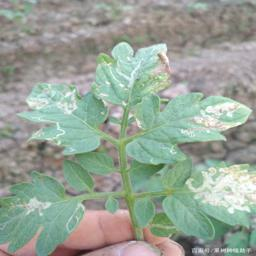liriomyza: (184, 160, 256, 215), (180, 101, 253, 138), (109, 56, 142, 91), (8, 194, 52, 216), (34, 116, 65, 142), (27, 84, 55, 110), (64, 201, 86, 233), (57, 88, 79, 114), (169, 142, 178, 154)
